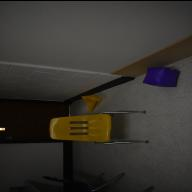cone: (142, 65, 181, 87), (80, 93, 102, 111)
